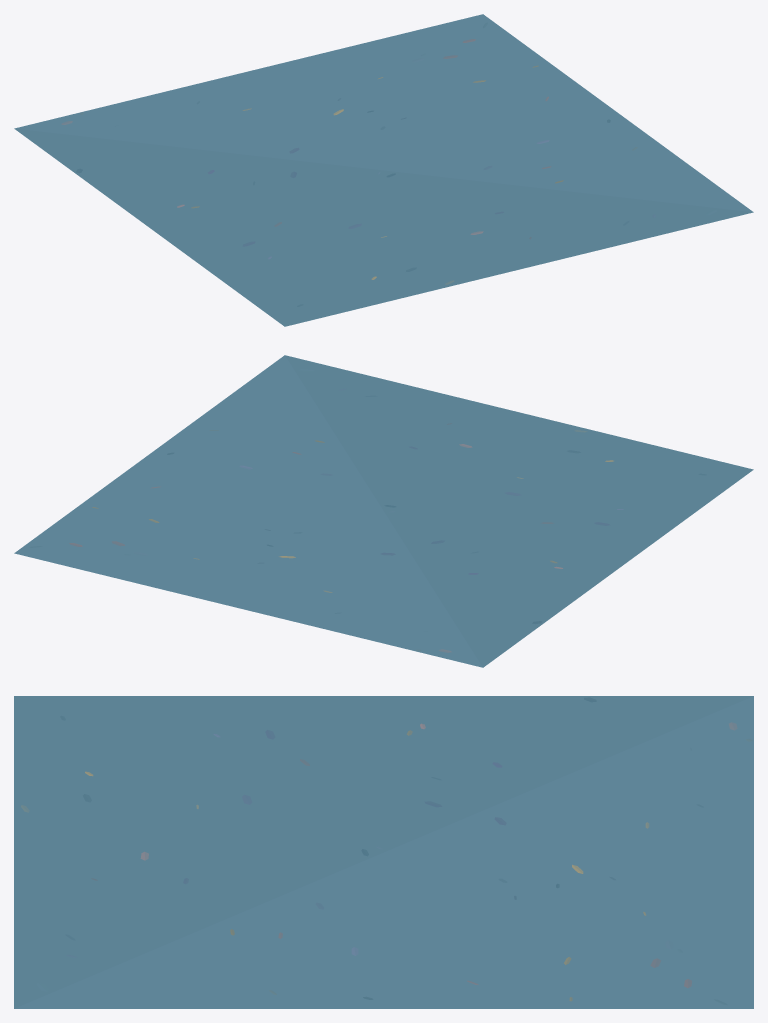
File: HK_Water.lod.glb
3 renders of one model, top to bottom at view 1: azimuth 30°, elevation 25°; view 2: azimuth 150°, elevation 25°; view 3: azimuth 270°, elevation 25°, orthographic. The views are drawn at different scales.
Parts seen in each view (by area): view 1: HK_Water; view 2: HK_Water; view 3: HK_Water.
Part boxes in pixels (bbox=[...]): HK_Water: bbox=[14, 14, 753, 326]; HK_Water: bbox=[14, 355, 753, 667]; HK_Water: bbox=[14, 696, 753, 1008].
Size of the model in its own units: 40 by 0.00649 by 40.
